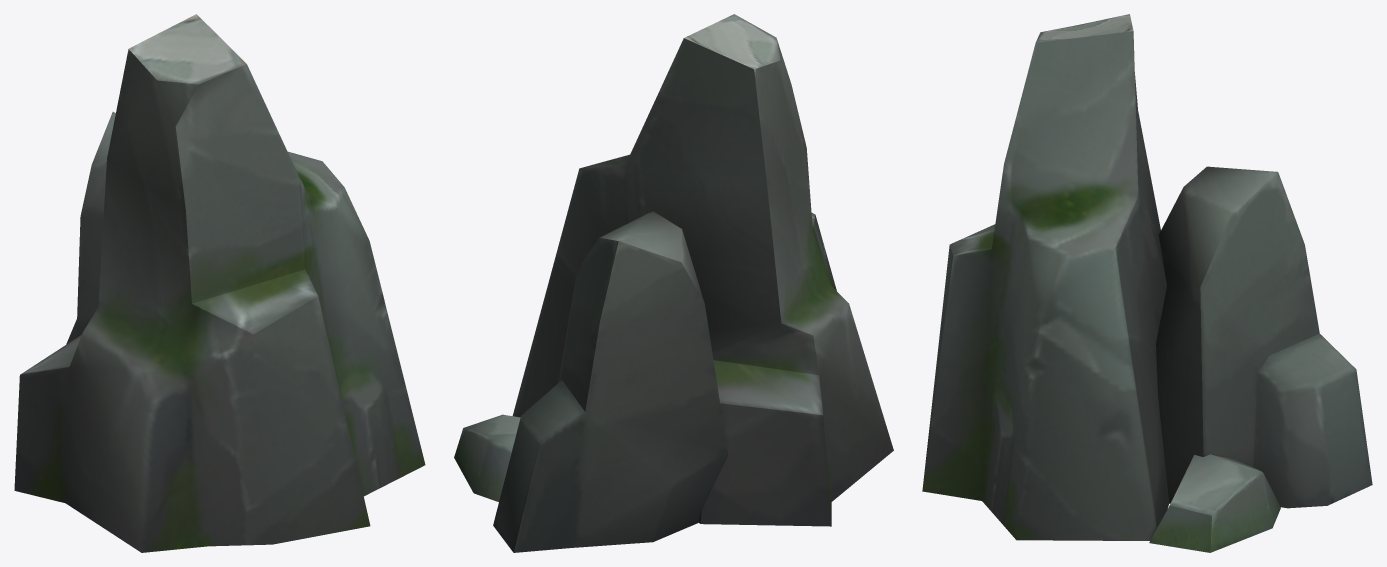
File: scene_shenmisenlin_strone07.FBX
3 views of the same model, side by side, from view 1: azimuth 30°, elevation 25°; view 2: azimuth 150°, elevation 25°; view 3: azimuth 270°, elevation 25° (orthographic). The views are drawn at different scales.
Parts seen in each view (by area): view 1: scene_shenmisenlin_strone07; view 2: scene_shenmisenlin_strone07; view 3: scene_shenmisenlin_strone07.
Boxes of the visible parts, x1,y1,x2,y2 form: scene_shenmisenlin_strone07: [14, 14, 425, 552]; scene_shenmisenlin_strone07: [454, 14, 893, 552]; scene_shenmisenlin_strone07: [922, 14, 1372, 552].
Bounding box in the file's own units: 337 × 399 × 378.
